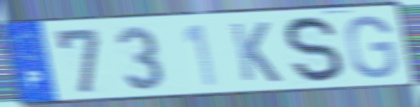1: (183, 23, 218, 87)
3: (114, 23, 166, 94)
7: (51, 27, 102, 95)
G: (343, 13, 401, 81)
K: (228, 20, 285, 84)
S: (282, 14, 347, 87)
